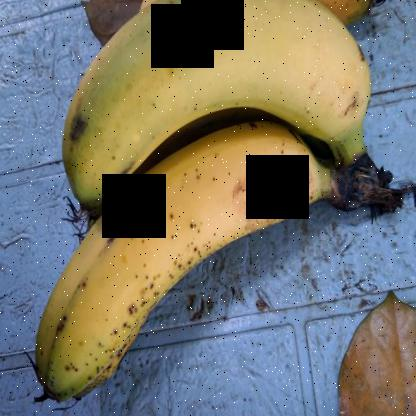freshripe: (58, 0, 369, 177)
ripe: (35, 108, 322, 415)
